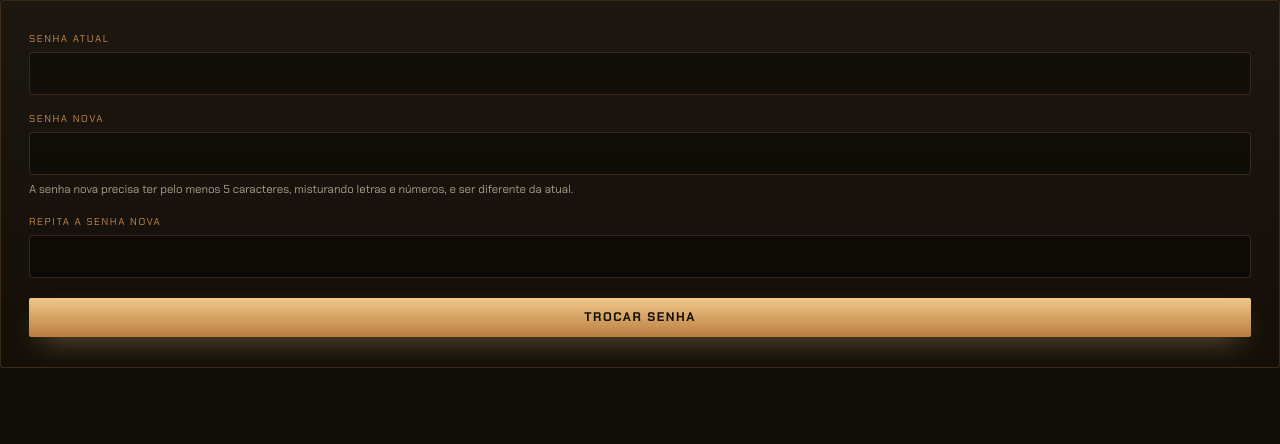
Test case: a regra da senha é dita antes, e conferida antes de enviar › igual à atual: avisa sem ir ao servidor
Type "k7wm-3qfa-x9pe" into the password field labelled "SENHA ATUAL". click: (640, 74)
box: [29, 52, 1251, 95]
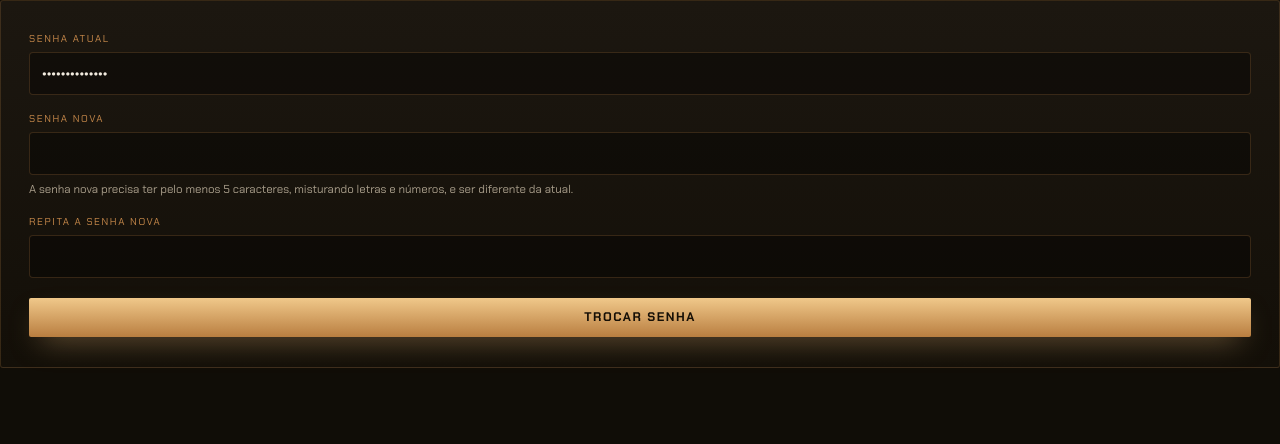
Type "k7wm-3qfa-x9pe" into the password field labelled "SENHA NOVA". click: (640, 154)
box: [29, 132, 1251, 175]
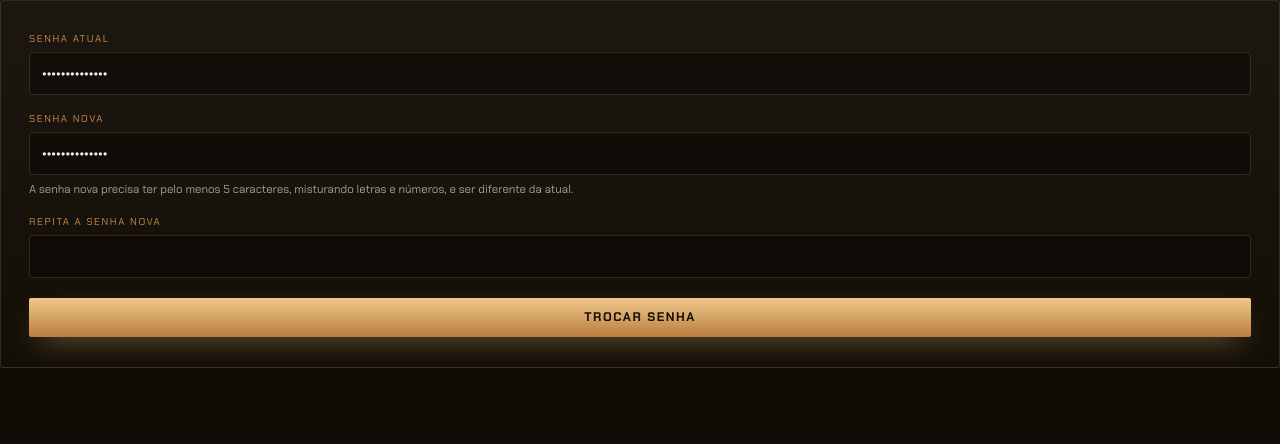
Type "k7wm-3qfa-x9pe" into the password field labelled "REPITA A SENHA NOVA". click: (640, 257)
box: [29, 235, 1251, 278]
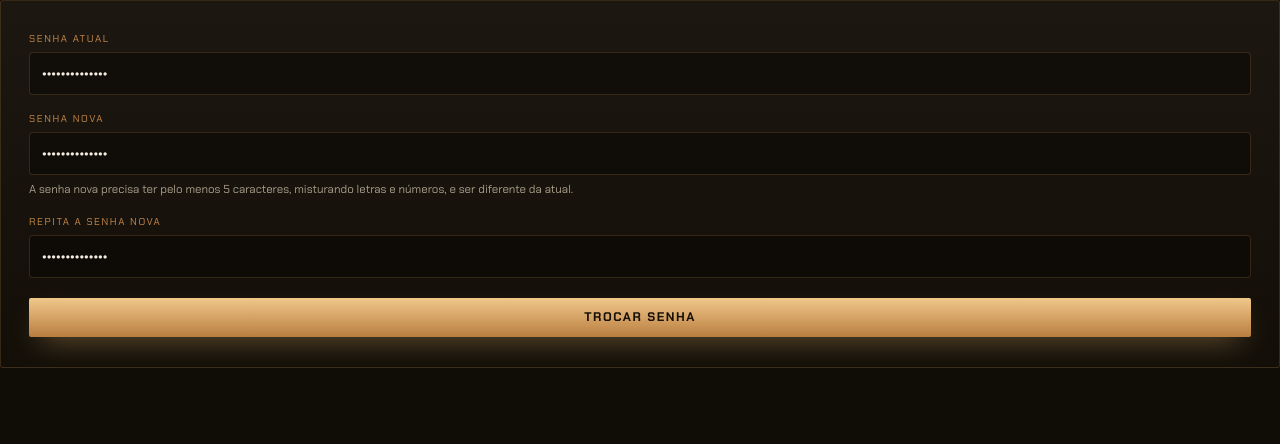
Click the button "TROCAR SENHA". click: (640, 318)
box: [29, 298, 1251, 337]
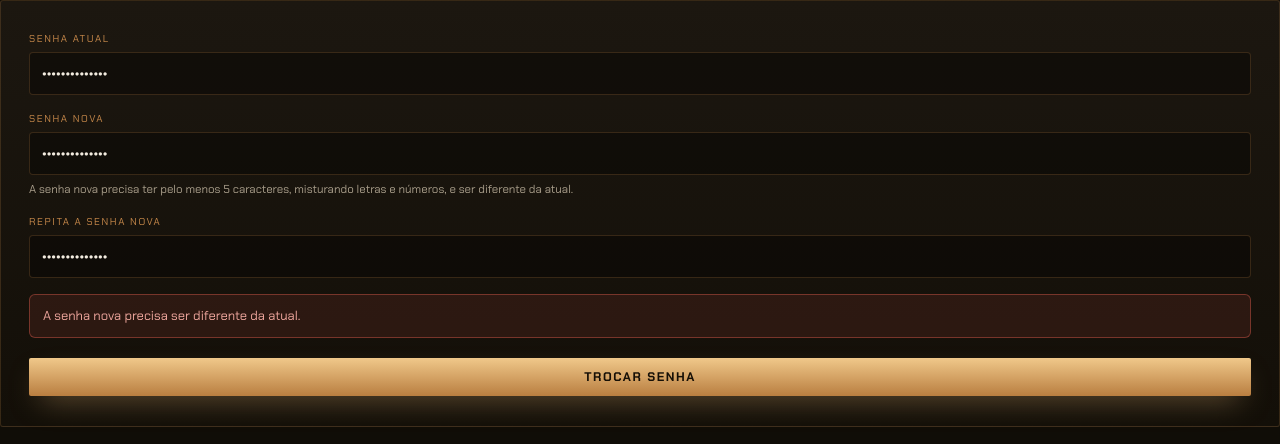
Expected: the message reads "A senha nova precisa ser diferente da atual.", [43, 307, 300, 324]
